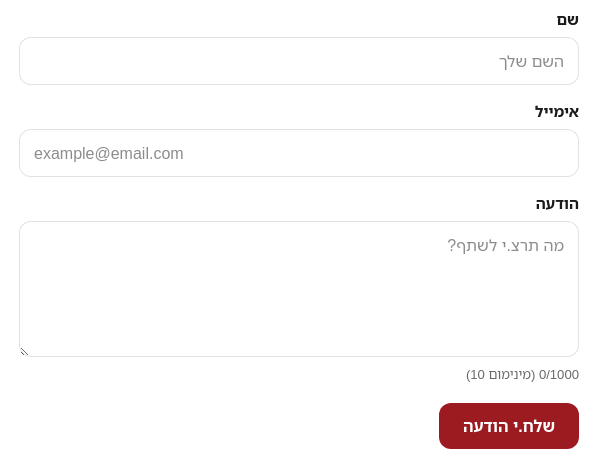
it: ContactForm › updates character counter as user types
Type "שלום עולם" into the text box with placeholder "מה תרצ.י לשתף?".
click(299, 289); type("שלום עולם")  # box 19,221 -> 579,357
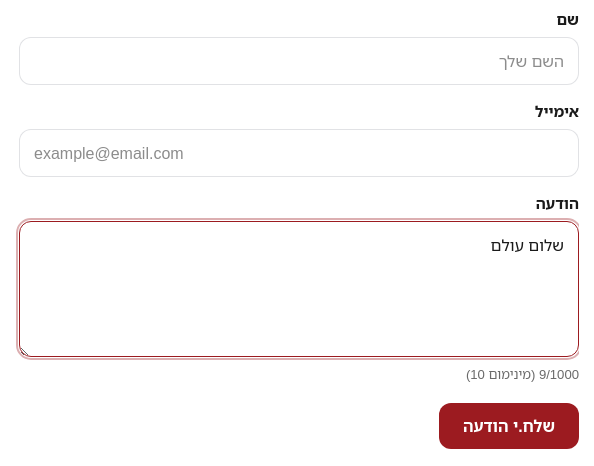
Result: the text "9/1000 (מינימום 10)" is shown at 466,365 -> 579,383
